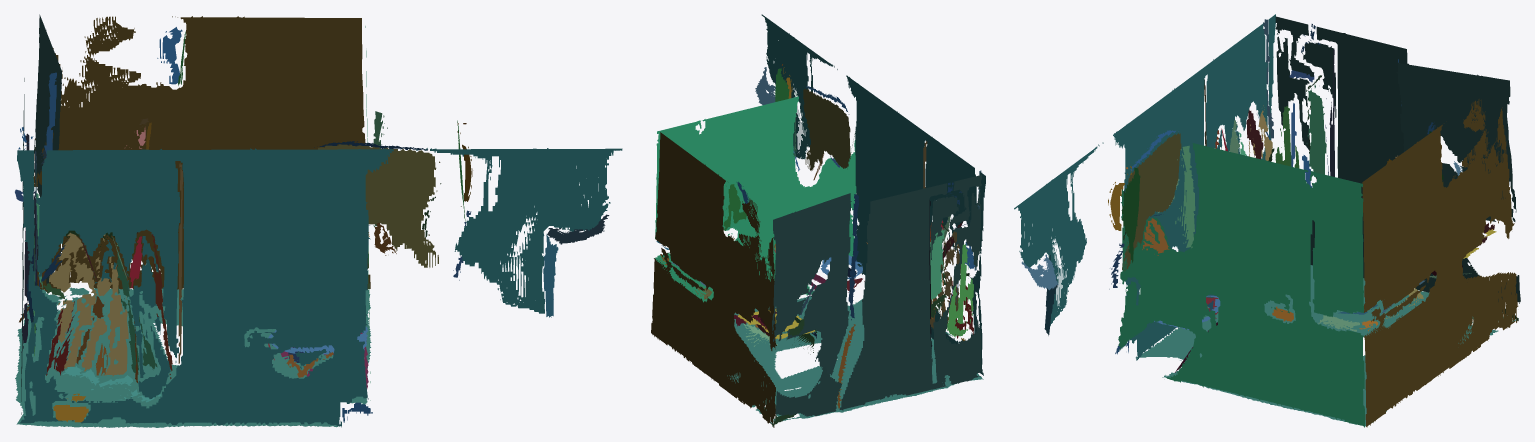
Rendered from NeuRIS-7bc286c1b6.glb.
3 renders of one model, left to right at view 1: azimuth 30°, elevation 25°; view 2: azimuth 150°, elevation 25°; view 3: azimuth 270°, elevation 25°, orthographic. The views are drawn at different scales.
Visible parts, largest first — view 1: lean; view 2: lean; view 3: lean.
Part boxes in pixels (box(x1,y1,x2,y2)): lean: box(15, 14, 622, 427); lean: box(651, 14, 985, 427); lean: box(1014, 14, 1520, 427).
Size of the model in its own units: 3.51 by 2.07 by 3.86.
